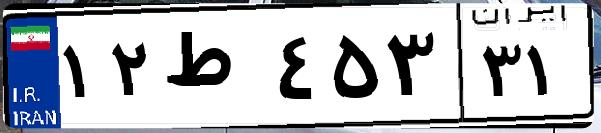1: (57, 26, 110, 100), (525, 38, 570, 115)
2: (110, 28, 158, 98)
3: (385, 28, 445, 110), (475, 38, 525, 113)
4: (270, 28, 330, 110)
5: (330, 28, 385, 110)
ط: (158, 20, 270, 120)
